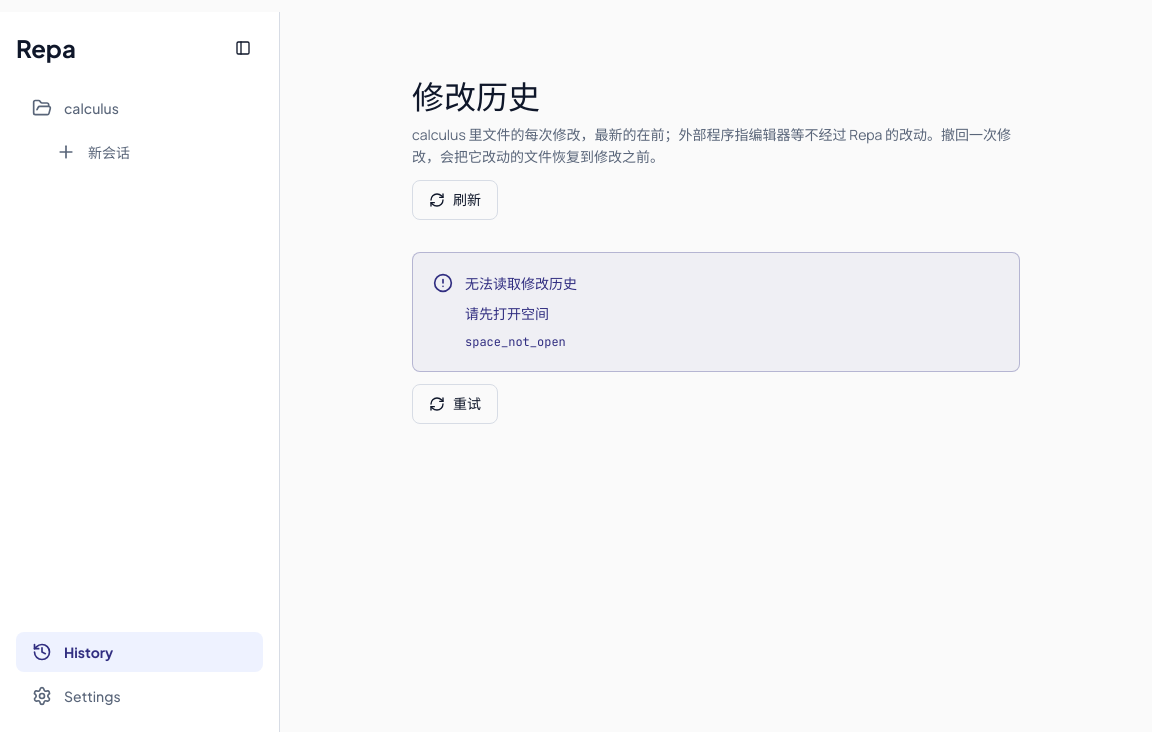
读取失败时显示原因，重试后列出修改
Check: the message shows "无法读取修改历史", box x1=465 y1=274 x2=577 y2=293
Click the button "重试": (455, 404) x1=412 y1=384 x2=498 y2=424
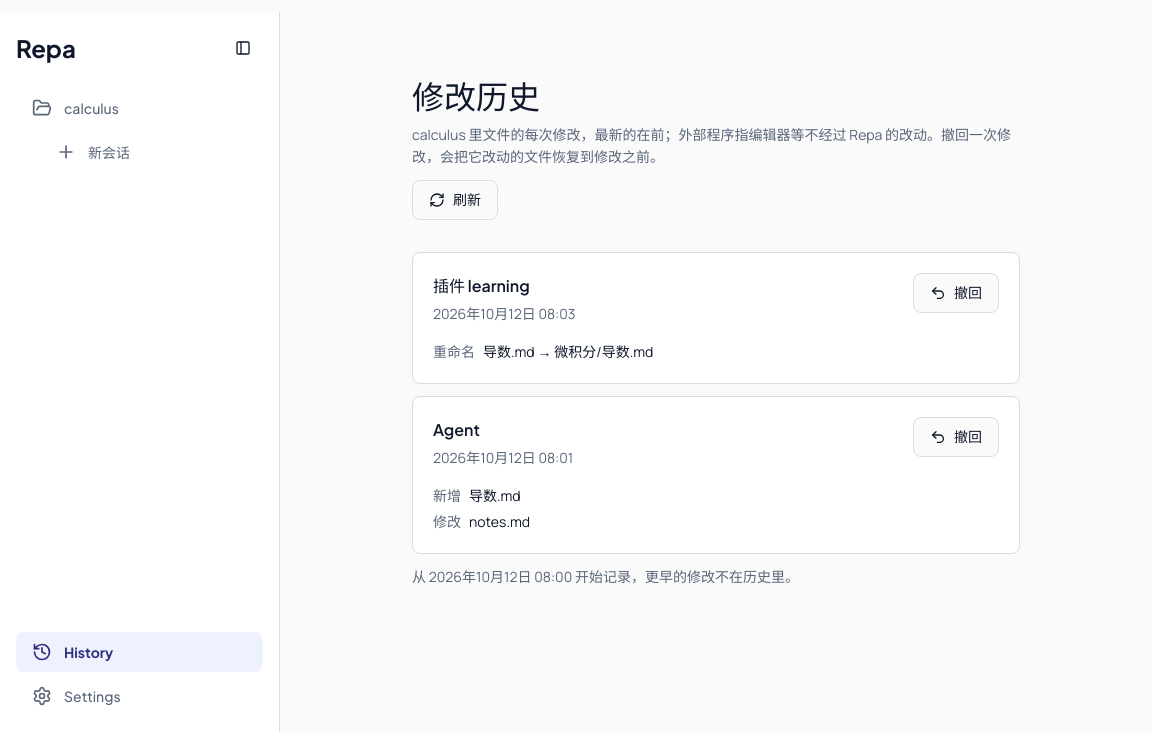
Check: the element "Agent" is shown, box x1=412 y1=396 x2=1020 y2=554
Check: the message "无法读取修改历史 请先打开空间 space_not_open" is gone
